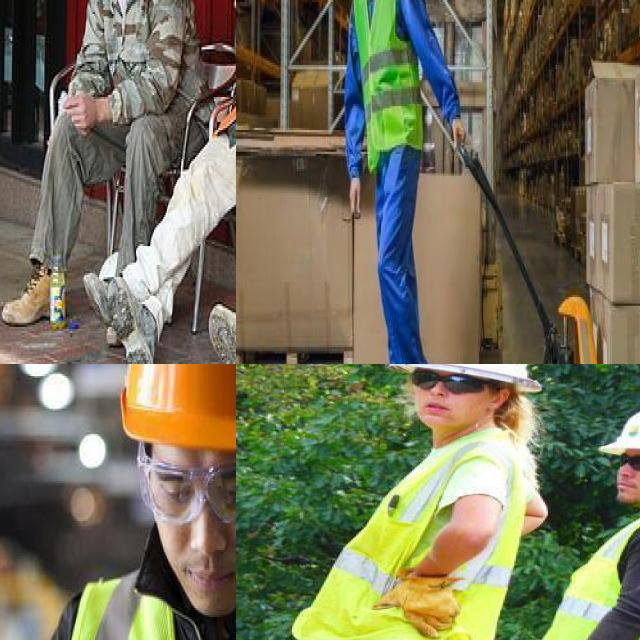face_nomask: (136, 441, 236, 608), (399, 370, 500, 436), (594, 450, 640, 513)
glasses: (134, 442, 236, 525), (405, 364, 490, 398), (611, 446, 640, 474)
hand_glove: (370, 562, 477, 640)
hand_noglove: (64, 88, 116, 146), (445, 91, 470, 165), (347, 169, 365, 239)
head_helmet: (112, 364, 236, 434), (368, 364, 559, 390), (607, 403, 640, 461)
person: (305, 364, 529, 640), (26, 364, 236, 640), (334, 0, 454, 364), (44, 0, 208, 208), (537, 399, 640, 640)
shoes: (105, 271, 153, 364), (0, 264, 64, 326), (205, 306, 236, 364)
vest: (337, 432, 512, 640), (63, 551, 236, 640), (538, 509, 640, 640), (352, 0, 423, 162)
